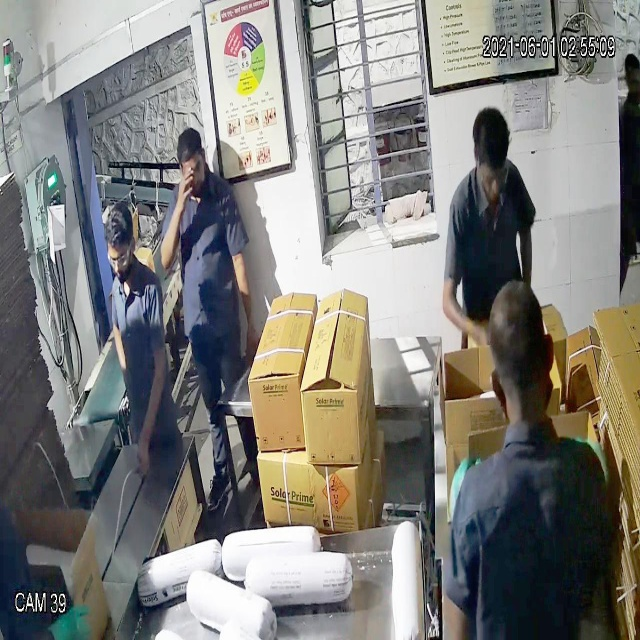Gafas: (101, 242, 140, 278)
